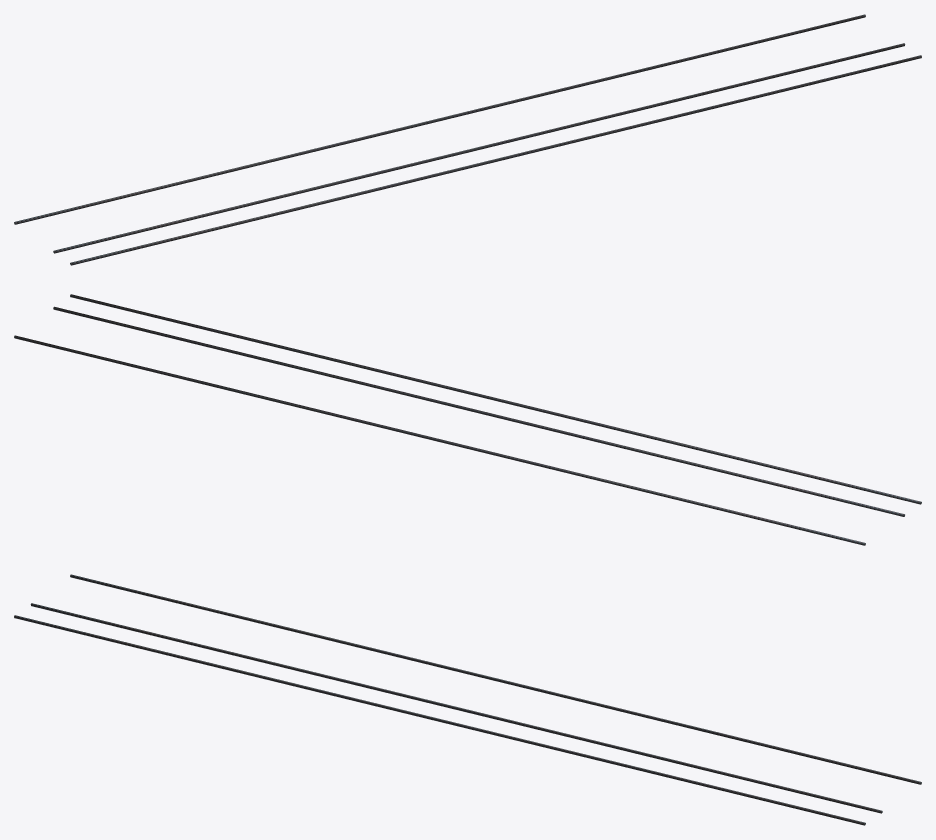
The model's file is PowerLines_main.fbx.
3 renders of one model, top to bottom at view 1: azimuth 30°, elevation 25°; view 2: azimuth 150°, elevation 25°; view 3: azimuth 330°, elevation 25°, orthographic.
Parts seen in each view (by area): view 1: powerwires0; view 2: powerwires0; view 3: powerwires0.
Part boxes in pixels (x1=…): powerwires0: x1=14, y1=14, x2=921, y2=265; powerwires0: x1=14, y1=294, x2=921, y2=545; powerwires0: x1=14, y1=574, x2=921, y2=825.
Bounding box in the file's own units: 23.29 × 0.0749 × 2.73.
